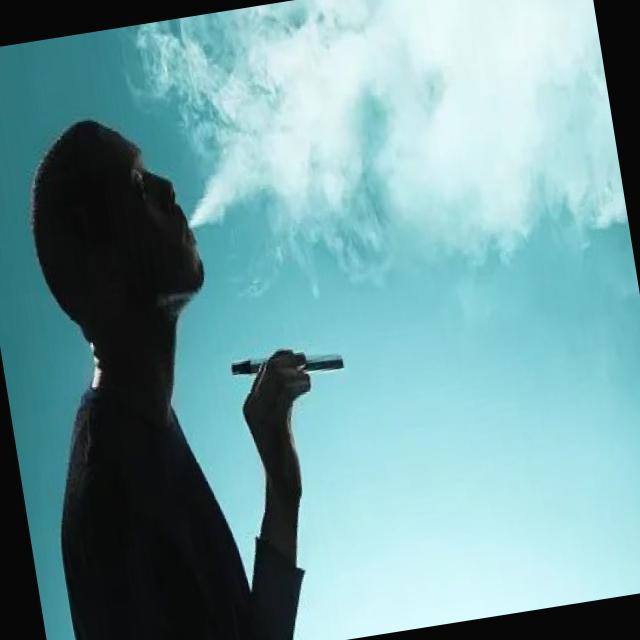cigarette: (230, 337, 348, 392)
